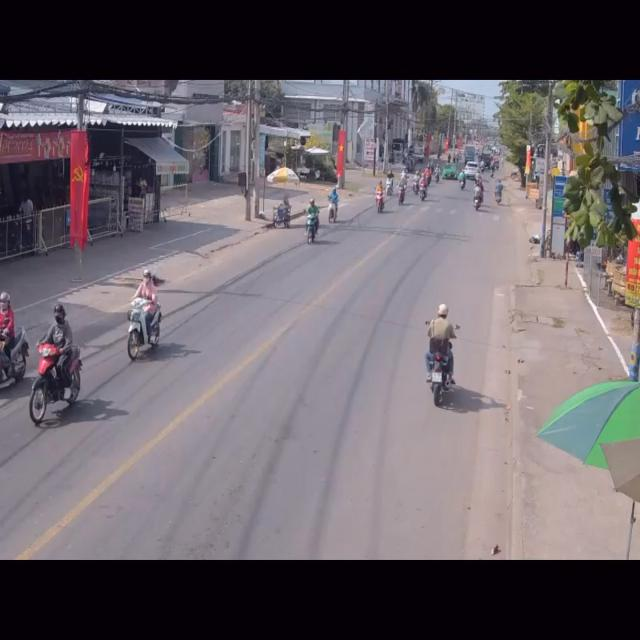motorbike: (33, 304, 84, 428), (424, 302, 456, 407), (0, 291, 28, 396), (129, 273, 162, 362), (304, 198, 322, 248), (327, 187, 339, 223), (376, 180, 386, 213)
